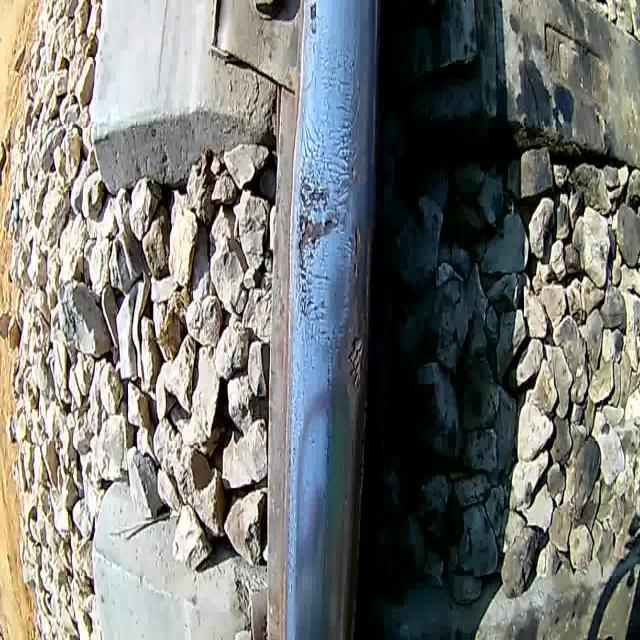Spallings: (294, 167, 342, 323), (343, 328, 368, 395), (346, 216, 364, 290)
Squats: (336, 209, 369, 448)
